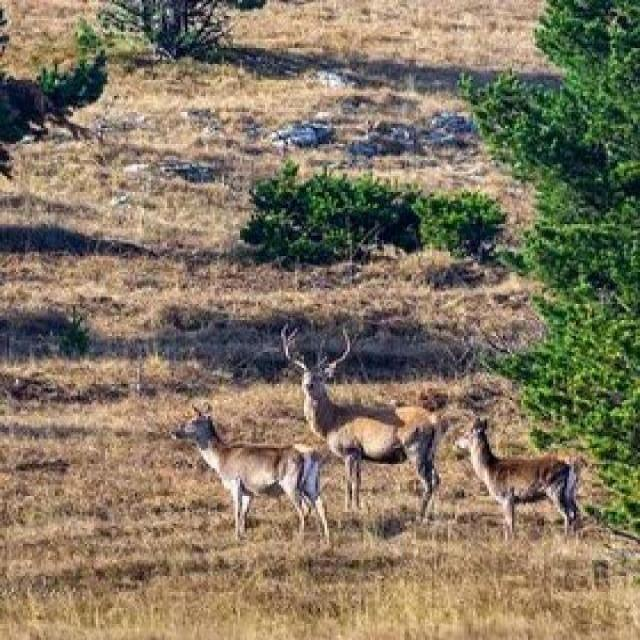deer: (266, 324, 434, 516), (184, 420, 352, 556), (449, 407, 555, 540)
